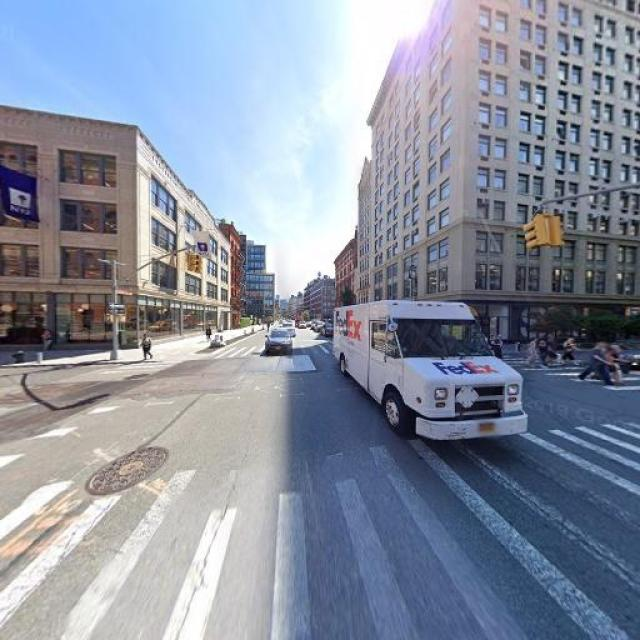Building: (370, 1, 640, 344), (1, 110, 233, 352)
